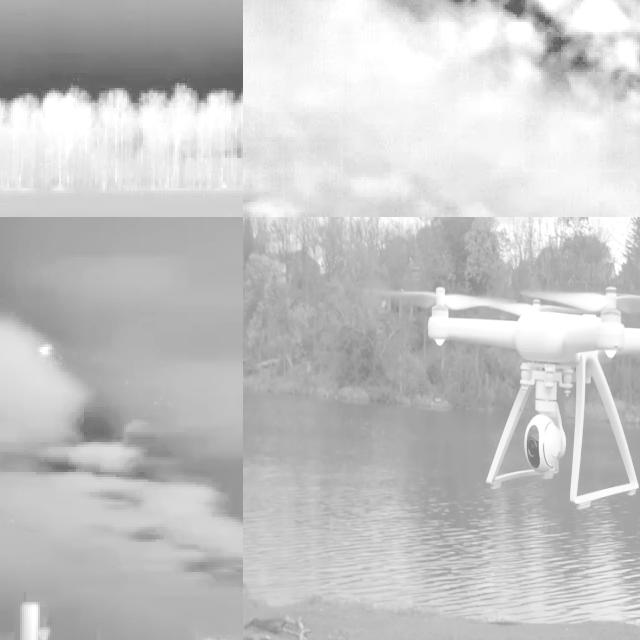0: (36, 337, 62, 367)
drone: (411, 279, 640, 506)
